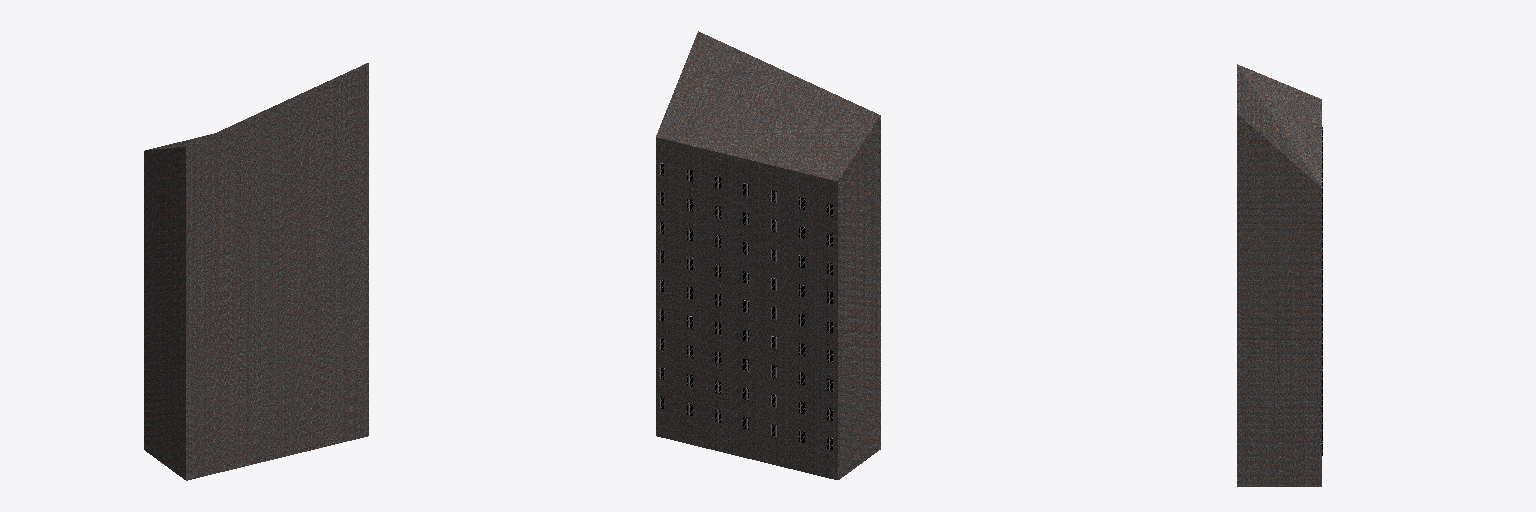
The picture shows the model from 3 angles: view 1: azimuth 30°, elevation 25°; view 2: azimuth 150°, elevation 25°; view 3: azimuth 270°, elevation 25°; orthographic projection.
Parts seen in each view (by area): view 1: largebrickbuilding; view 2: largebrickbuilding; view 3: largebrickbuilding.
Part boxes in pixels (bbox=[...]): largebrickbuilding: bbox=[144, 63, 368, 480]; largebrickbuilding: bbox=[656, 31, 880, 479]; largebrickbuilding: bbox=[1237, 64, 1322, 486].
Bounding box in the file's own units: 164 × 320 × 66.5.
2 materials, 2 textured.